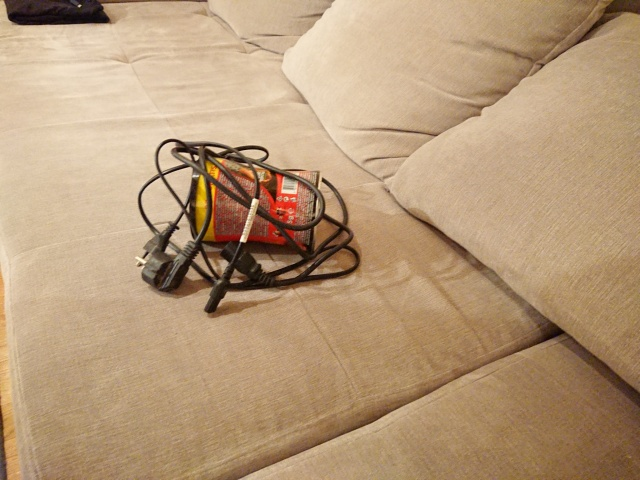Nescafe Classic 225g: (187, 152, 325, 261)
